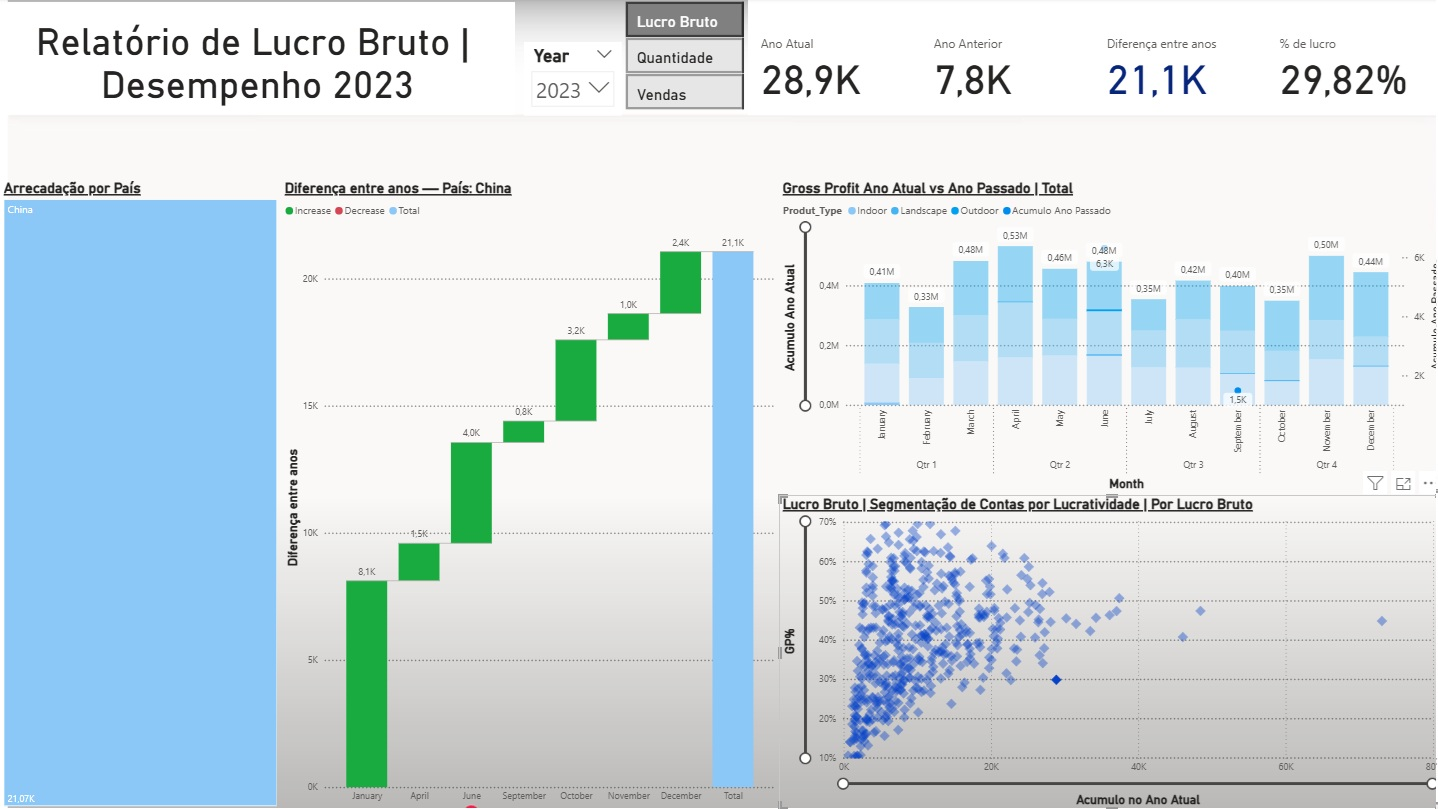

The dashboard page shown, as its layout file describes it:
{"tool":"powerbi","page":{"name":"Page 1","canvas":[1920,1080],"ordinal":0},"visuals":[{"type":"advancedSlicerVisual","fields":{"Values":["Slc_Values.Display"]},"box":[827.3,0,167.6,155.6],"z":0},{"type":"slicer","fields":{"Values":["Dim_Date.Date.Variation.Date Hierarchy.Year"]},"box":[697.4,58.4,129.8,97.8],"z":1000},{"type":"treemap","title":"Arrecadação por País","fields":{"Details":["Dim_account.country"],"Values":["_Measures.YTD_VS_PYTD"]},"box":[0,240.7,373.5,838.9],"z":2000},{"type":"waterfallChart","fields":{"Y":["_Measures.YTD_VS_PYTD"],"Category":["Dim_Date.Date.Variation.Date Hierarchy.Month","Dim_account.country","Dim_Product.Produt_Type","Dim_Product.Product_Name"]},"box":[373.7,240.7,662.4,839.3],"z":3000},{"type":"lineStackedColumnComboChart","fields":{"Y":["_Measures.Switch_YTD"],"Y2":["_Measures.Switch_PYTD"],"Category":["Dim_Date.Date.Variation.Date Hierarchy.Quarter","Dim_Date.Date.Variation.Date Hierarchy.Month"],"Series":["Dim_Product.Produt_Type"]},"box":[1036.1,240.7,884.5,419],"z":4000},{"type":"cardVisual","fields":{"Data":["_Measures.Switch_YTD","_Measures.Switch_PYTD","_Measures.YTD_VS_PYTD","_Measures.GP%"]},"box":[995,0,925,156.1],"z":5000},{"type":"scatterChart","fields":{"Y":["_Measures.GP%"],"Category":["Dim_account.Account"],"X":["_Measures.Switch_YTD"]},"box":[1036.1,661,884.5,419],"z":6000},{"type":"card","fields":{"Values":["_Measures._Título Dashboard"]},"box":[0,5.4,685.5,150],"z":6001}]}

Visuals, with their boxes in screenshot pixels (x1, y1, x2, y2), scaled from the page's 1920x1080 canvas onto the 1438x809 screenshot:
advancedSlicerVisual - Slc_Values.Display: {"x1": 620, "y1": 0, "x2": 745, "y2": 117}
slicer - Dim_Date.Date.Variation.Date Hierarchy.Year: {"x1": 522, "y1": 44, "x2": 620, "y2": 117}
"Arrecadação por País" treemap: {"x1": 0, "y1": 180, "x2": 280, "y2": 808}
waterfallChart - _Measures.YTD_VS_PYTD x Dim_Date.Date.Variation.Date Hierarchy.Month: {"x1": 280, "y1": 180, "x2": 776, "y2": 808}
lineStackedColumnComboChart - _Measures.Switch_YTD x _Measures.Switch_PYTD: {"x1": 776, "y1": 180, "x2": 1437, "y2": 494}
cardVisual - _Measures.Switch_YTD x _Measures.Switch_PYTD: {"x1": 745, "y1": 0, "x2": 1437, "y2": 117}
scatterChart - _Measures.GP% x Dim_account.Account: {"x1": 776, "y1": 495, "x2": 1437, "y2": 808}
card - _Measures._Título Dashboard: {"x1": 0, "y1": 4, "x2": 513, "y2": 116}
